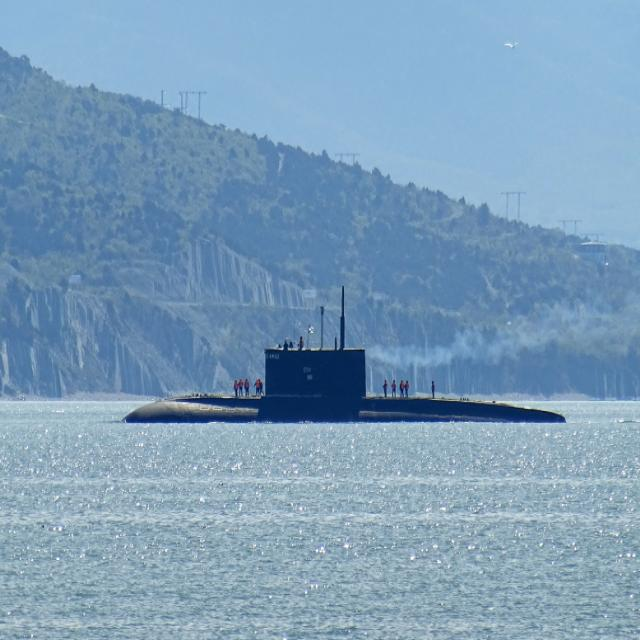submarine: (105, 275, 582, 421)
